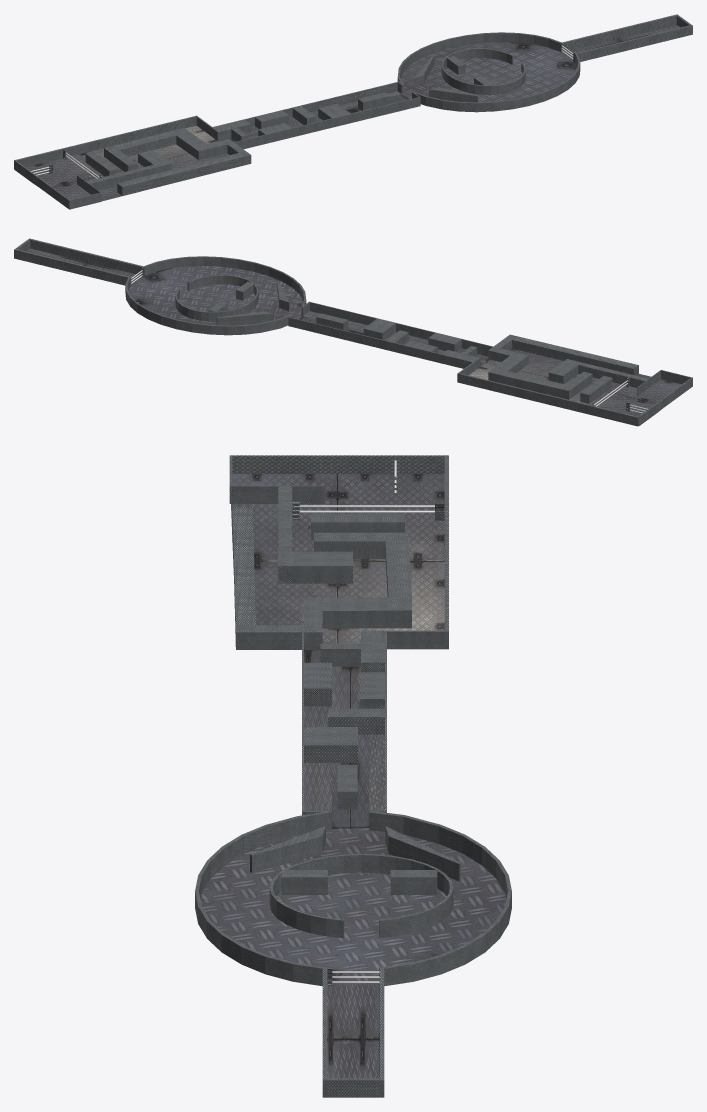
The model's file is prototype.fbx.
3 renders of one model, top to bottom at view 1: azimuth 30°, elevation 25°; view 2: azimuth 150°, elevation 25°; view 3: azimuth 270°, elevation 25°, orthographic. The views are drawn at different scales.
Visible parts, largest first — view 1: walls, floor; view 2: walls, floor; view 3: walls, floor.
Part boxes in pixels (x1,y1,x2,y2): walls: [14, 14, 692, 209]; floor: [14, 24, 680, 201]; walls: [14, 238, 692, 426]; floor: [26, 248, 681, 425]; walls: [195, 455, 511, 1097]; floor: [200, 474, 506, 1078].
Bounding box in the file's own units: 1077 × 14.45 × 231.
